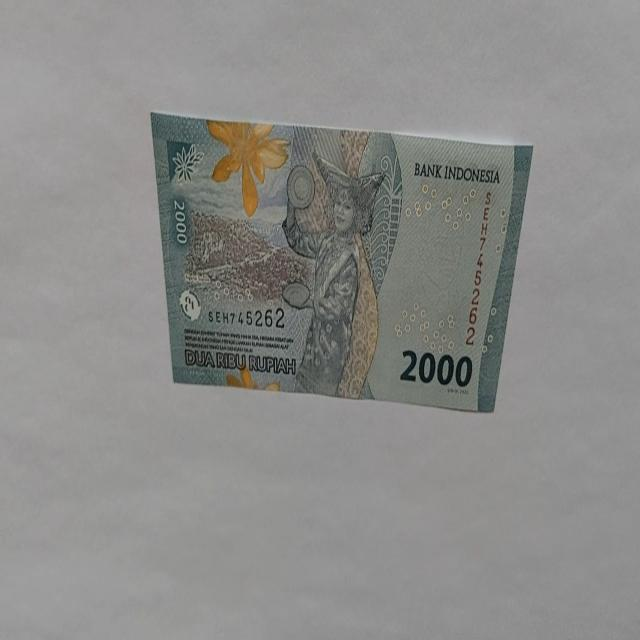dua ribu rupiah: (150, 112, 534, 414), (279, 150, 387, 398), (205, 119, 291, 218)
